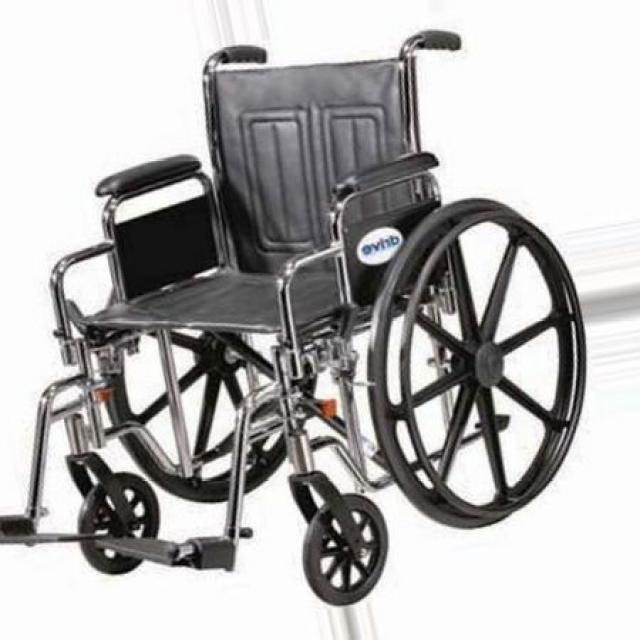wheelchair: (0, 26, 597, 608)
